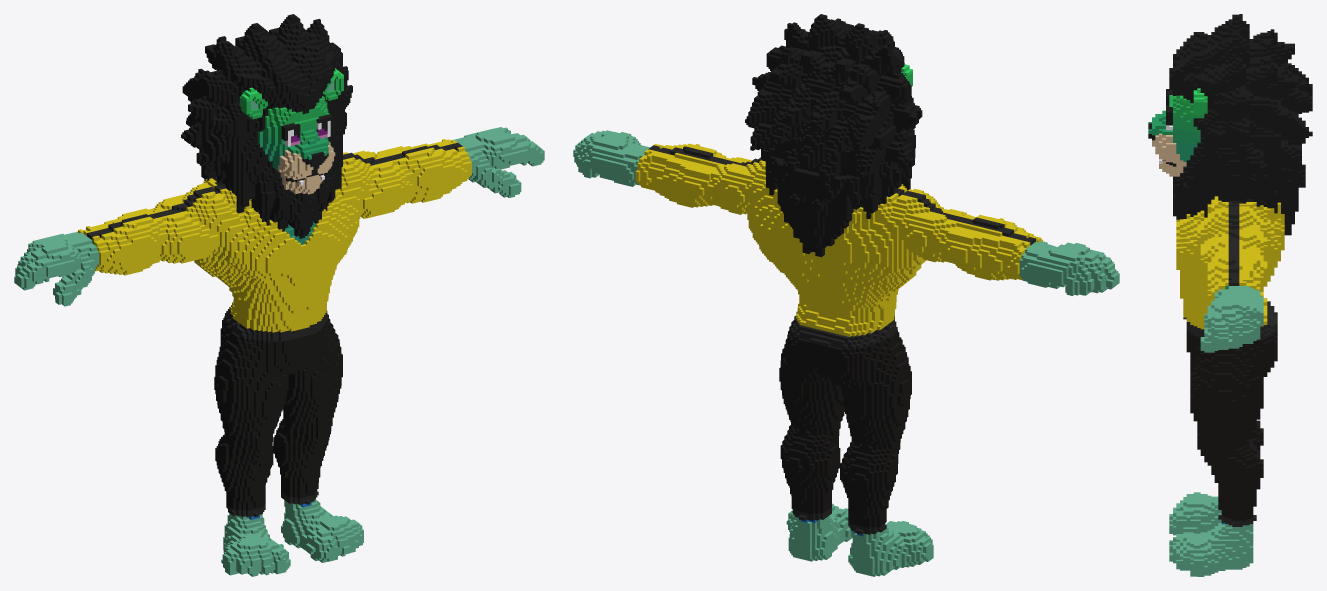
File: 969-D_rwYVie.fbx
The picture shows the model from 3 angles, left to right: view 1: azimuth 30°, elevation 25°; view 2: azimuth 150°, elevation 25°; view 3: azimuth 270°, elevation 25°; orthographic projection. The views are drawn at different scales.
Visible parts, largest first — view 1: standard; view 2: standard; view 3: standard.
Boxes of the visible parts, x1,y1,x2,y2 form: standard: (14, 14, 544, 576); standard: (573, 14, 1119, 576); standard: (1148, 14, 1312, 576).
Size of the model in its own units: 17.2 by 16.5 by 4.7.
5 materials, 5 textured.
